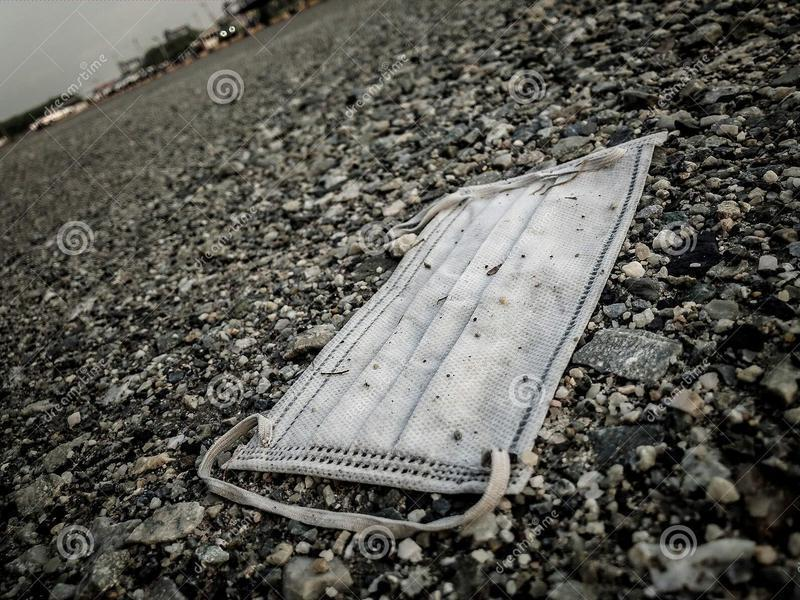mask: (184, 122, 671, 541)
